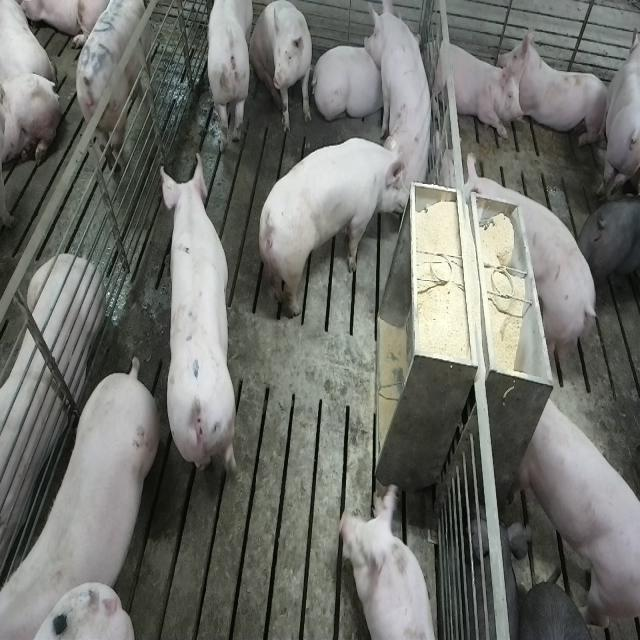Sitting: (366, 0, 436, 201), (250, 1, 314, 134)
Standing: (516, 392, 638, 632), (159, 153, 235, 497), (75, 0, 158, 194), (514, 192, 601, 366), (205, 2, 253, 150), (576, 192, 640, 297), (604, 20, 640, 198)
Sternal_lying: (0, 248, 101, 580), (341, 480, 439, 640), (502, 19, 612, 146), (427, 31, 522, 141), (315, 38, 387, 126)
